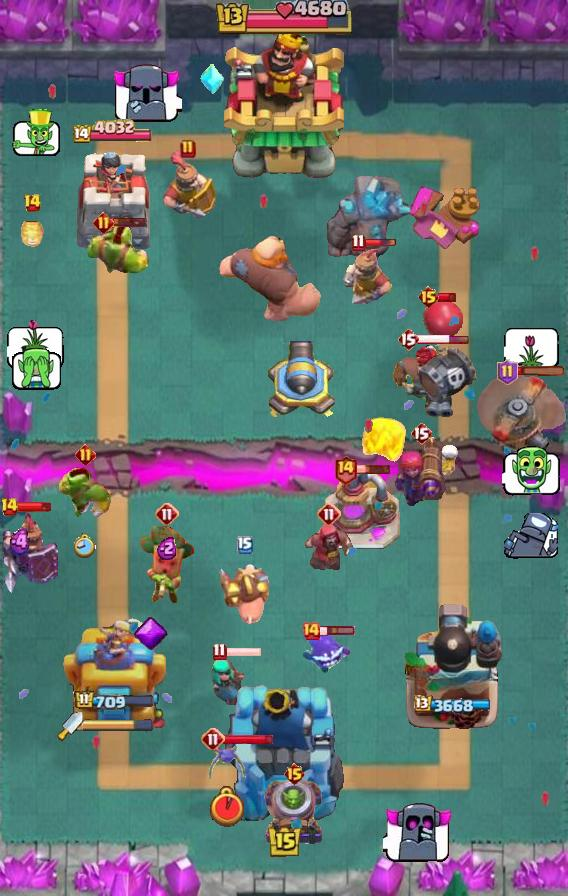balloon: (218, 233, 322, 325)
bar: (61, 615, 166, 731)
barbarian: (207, 744, 247, 782)
bowler: (302, 520, 356, 578)
cannoneer-tower: (323, 175, 413, 277)
clock: (213, 0, 355, 38)
dark-prince: (472, 374, 568, 456)
earthquake: (160, 148, 216, 224), (342, 244, 392, 304)
electro-spirit: (6, 528, 33, 556), (158, 536, 179, 560)
elixir: (210, 786, 244, 827), (74, 533, 96, 559)
elixir-golem-big: (0, 505, 58, 595)
emote: (223, 734, 274, 747), (416, 334, 470, 345), (515, 367, 567, 378), (111, 216, 148, 228), (356, 463, 393, 475), (319, 625, 356, 637), (225, 646, 262, 658), (16, 501, 52, 513), (363, 238, 397, 248), (438, 292, 457, 303)
flying-machine: (84, 226, 152, 282), (57, 463, 113, 521)
freeze: (217, 559, 273, 631)
goblin-barrel: (138, 526, 196, 606)
goblin-cage: (262, 777, 326, 847)
heal-spirit: (434, 444, 462, 478)
ice-spirit-evolution: (18, 216, 46, 248)
king-tower: (224, 29, 344, 181), (221, 682, 347, 826)
king-tower-bar: (83, 719, 153, 733)
mega-minion: (395, 434, 447, 506)
pad_2: (199, 63, 225, 95)
pekka: (323, 469, 401, 551)
phoenix-small: (390, 342, 460, 420)
queen-tower: (71, 144, 157, 255)
royal-recruit: (266, 339, 338, 423)
royal-recruit-evolution: (413, 298, 479, 402)
selected: (73, 118, 155, 145), (73, 690, 154, 712), (414, 695, 494, 715)
skeleton: (110, 62, 182, 126), (383, 800, 455, 864), (7, 318, 65, 370), (503, 446, 562, 496), (10, 109, 62, 159), (504, 512, 558, 559), (9, 348, 63, 391), (505, 327, 560, 369)
skeleton-king-skill: (135, 616, 170, 652)
spear-goblin: (300, 628, 352, 674)
text: (334, 455, 359, 486), (155, 502, 179, 526), (317, 502, 341, 526), (201, 727, 225, 751), (416, 285, 439, 309), (283, 762, 306, 786), (497, 359, 518, 385), (397, 327, 419, 351), (410, 421, 432, 445), (94, 211, 115, 233), (75, 443, 96, 464), (22, 193, 42, 213), (301, 621, 321, 641), (1, 497, 20, 517), (180, 139, 196, 159), (237, 536, 253, 554), (351, 232, 366, 251), (213, 643, 227, 662)
tower-bar: (403, 601, 503, 731)
valkyrie: (352, 410, 412, 474)
witch: (209, 657, 251, 705)
